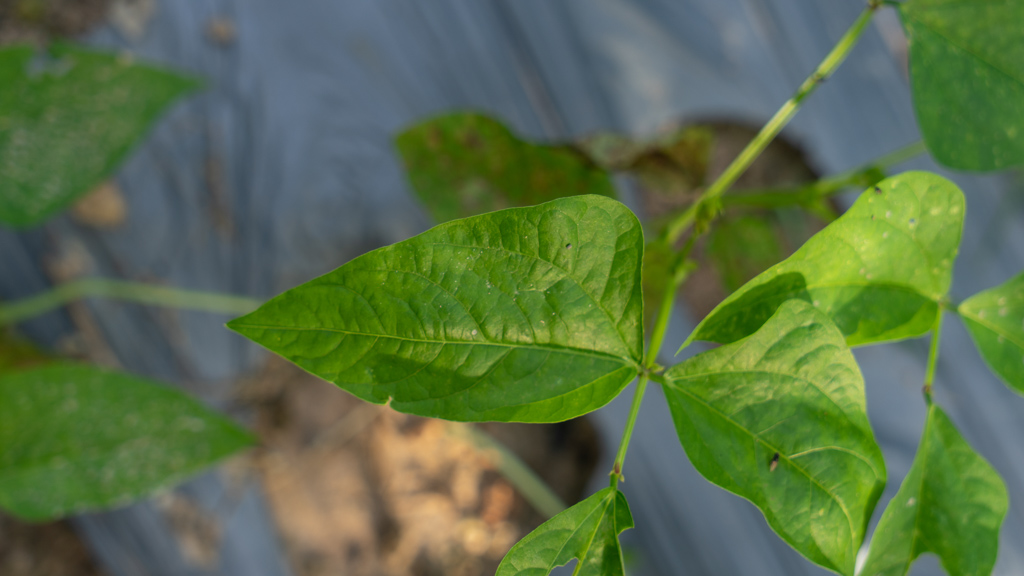Rust: (1, 359, 233, 525), (8, 51, 173, 225)
